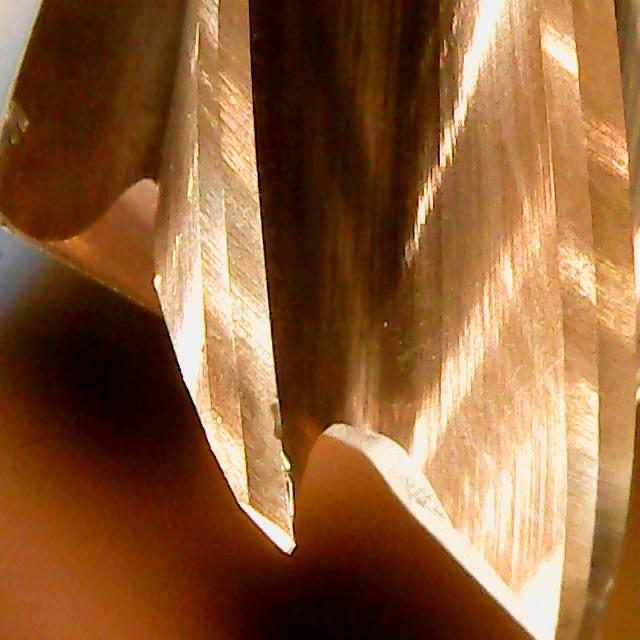Tool-wear-class-1: (163, 210, 333, 564)
